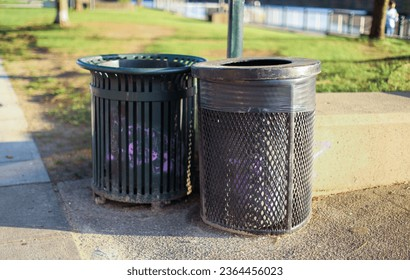TrashBin: (193, 54, 328, 236), (76, 45, 207, 211)
